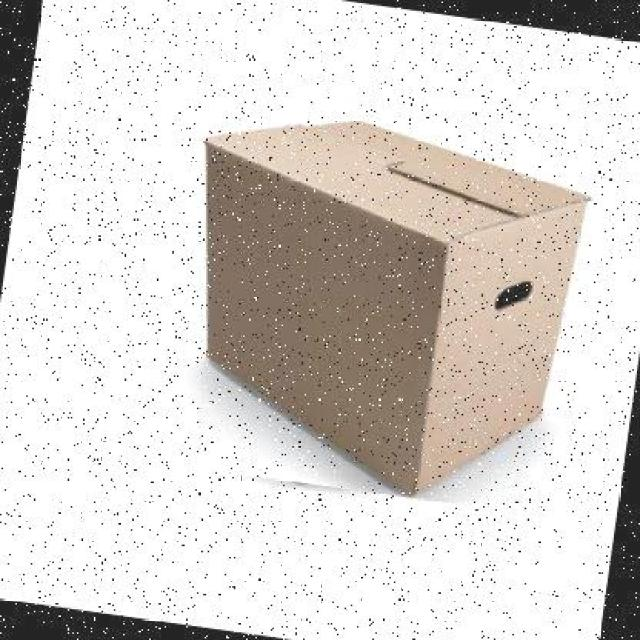box: (202, 120, 591, 499)
normal_hole: (494, 280, 534, 310)
